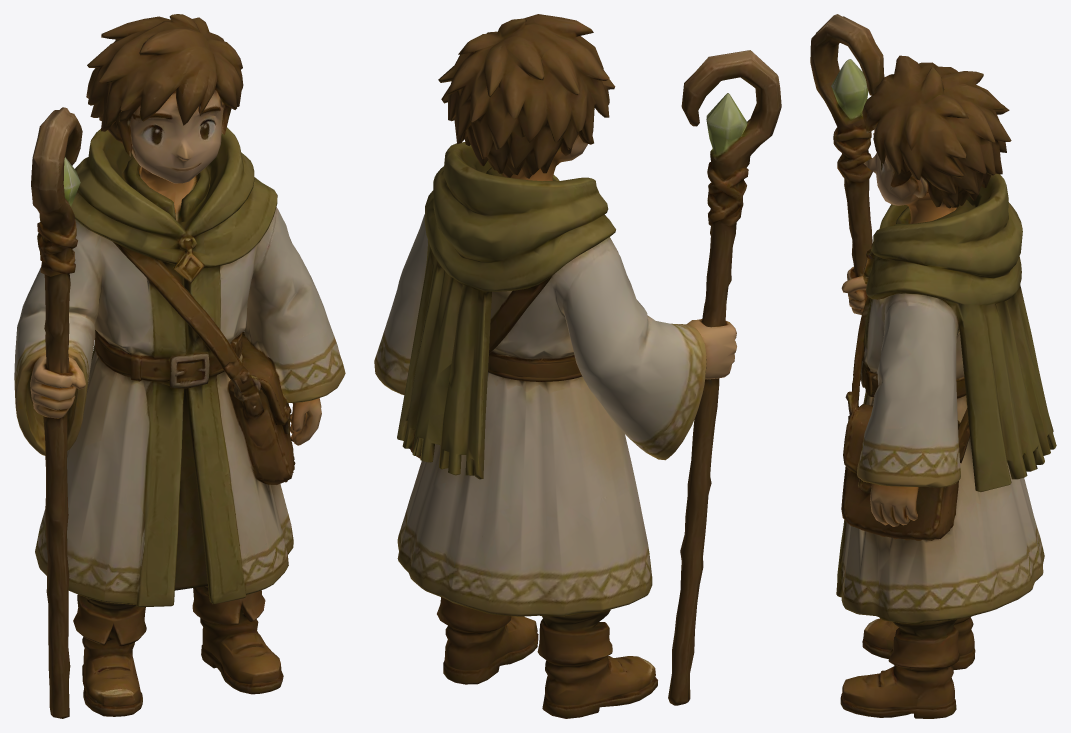
Rendered from chr_keeper_d_v1.glb.
3 views of the same model, side by side, from view 1: azimuth 30°, elevation 25°; view 2: azimuth 150°, elevation 25°; view 3: azimuth 270°, elevation 25° (orthographic). The views are drawn at different scales.
Parts seen in each view (by area): view 1: tripo_node_d6b62a8b-733a-4497-82b7-edf72822db59; view 2: tripo_node_d6b62a8b-733a-4497-82b7-edf72822db59; view 3: tripo_node_d6b62a8b-733a-4497-82b7-edf72822db59.
Boxes of the visible parts, <box> form: tripo_node_d6b62a8b-733a-4497-82b7-edf72822db59: <box>14,14,345,718</box>; tripo_node_d6b62a8b-733a-4497-82b7-edf72822db59: <box>374,14,781,718</box>; tripo_node_d6b62a8b-733a-4497-82b7-edf72822db59: <box>810,14,1056,718</box>.
Size of the model in its own units: 0.54 by 0.9807 by 0.3539.
Materials: 1 (1 with a texture image).
